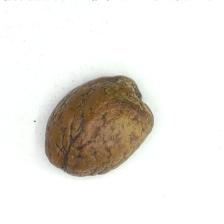NG: (45, 118, 108, 175), (104, 73, 153, 126)
